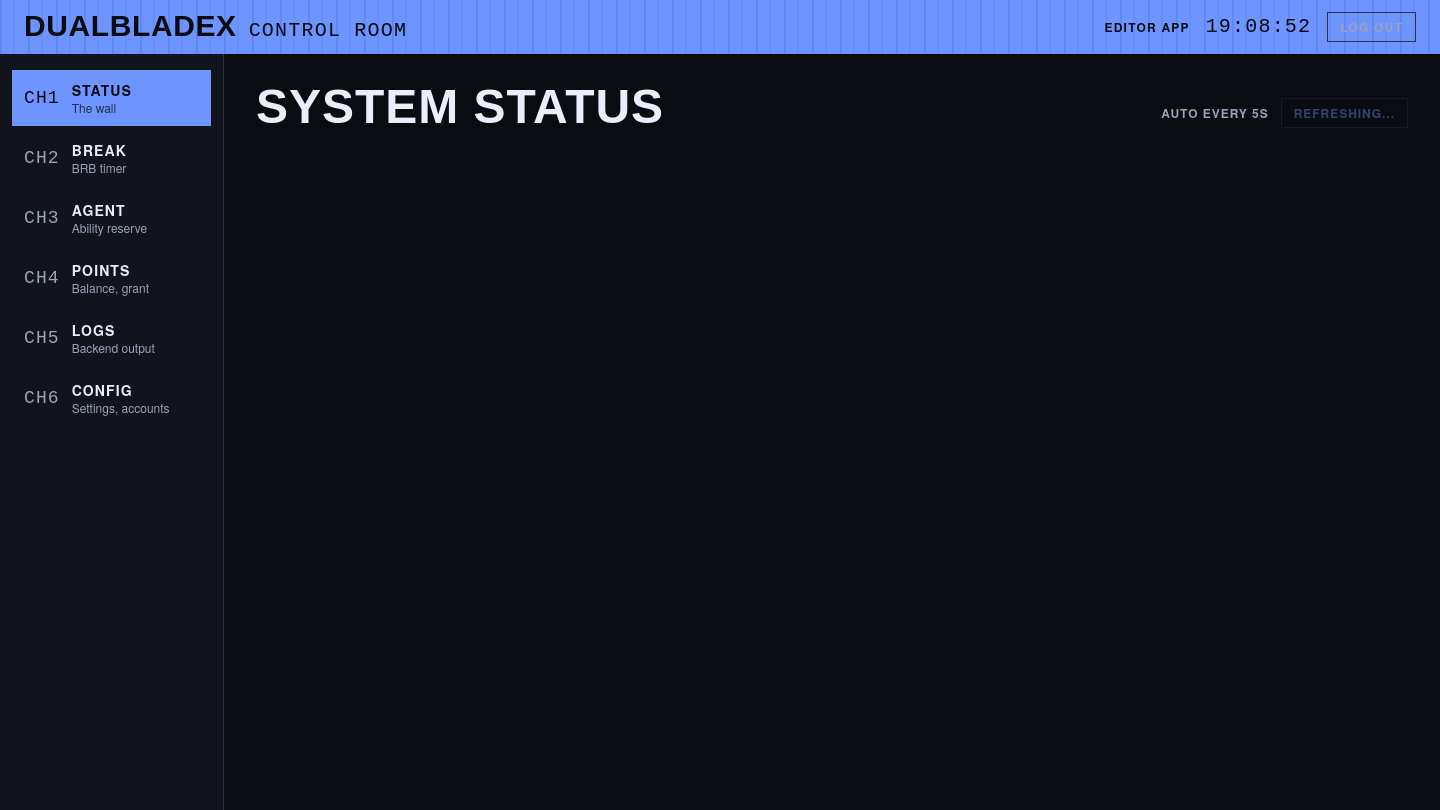
Test: AdminDashboard › switches to the Points tab and shows the real points tool
Step 1. Click the text "Points" → (101, 270), box [72, 260, 131, 280]
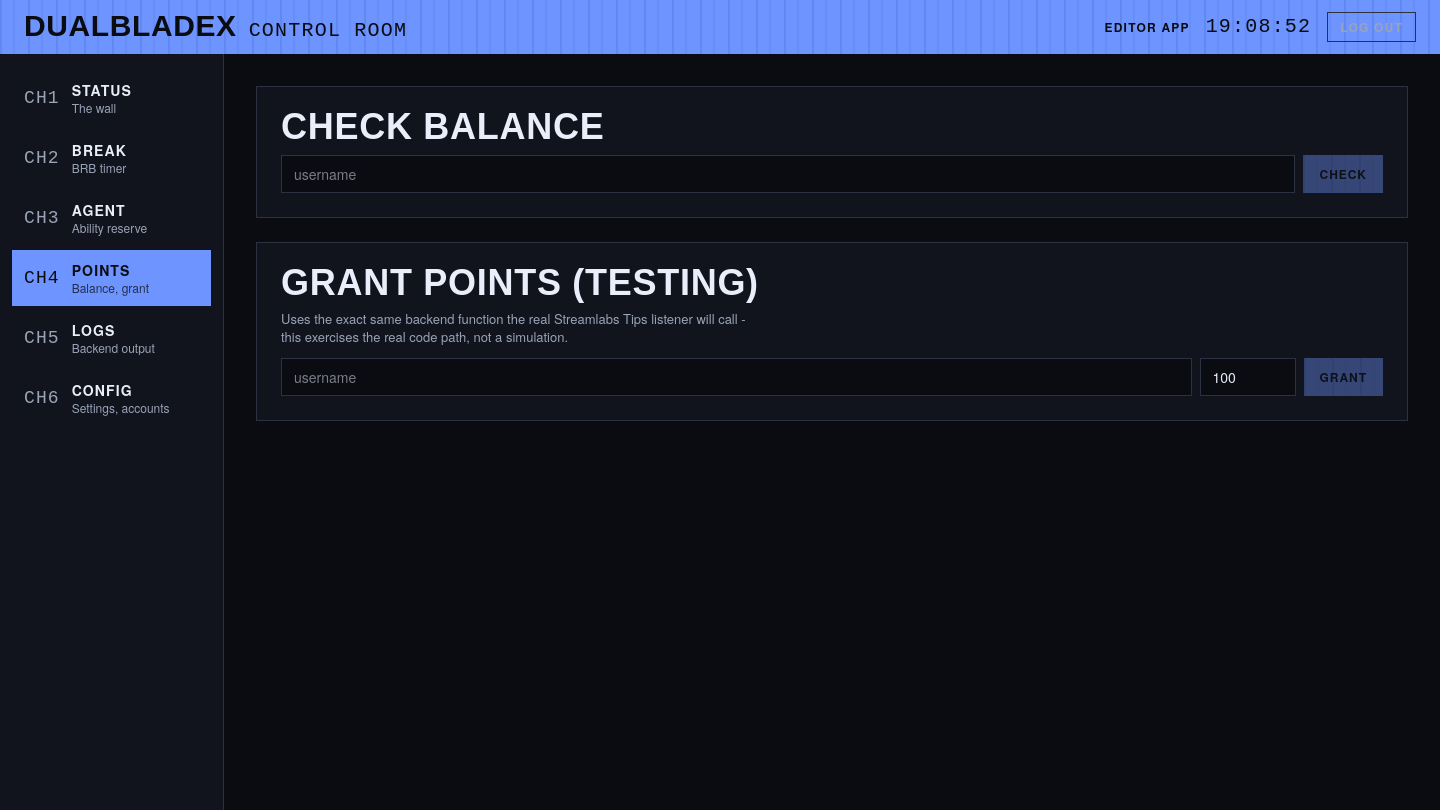
Expected: the heading "Check Balance" is shown, [281, 106, 604, 147]
Expected: the heading "Grant Points (testing)" is shown, [281, 262, 759, 303]
